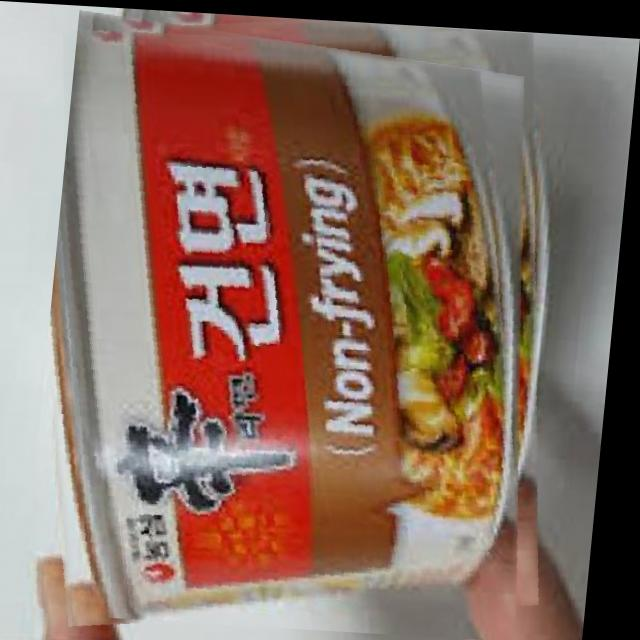Miscellaneous: (34, 4, 578, 634)
